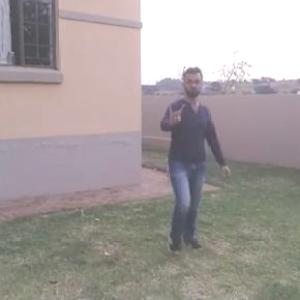takeoff-hand: (162, 96, 190, 127)
